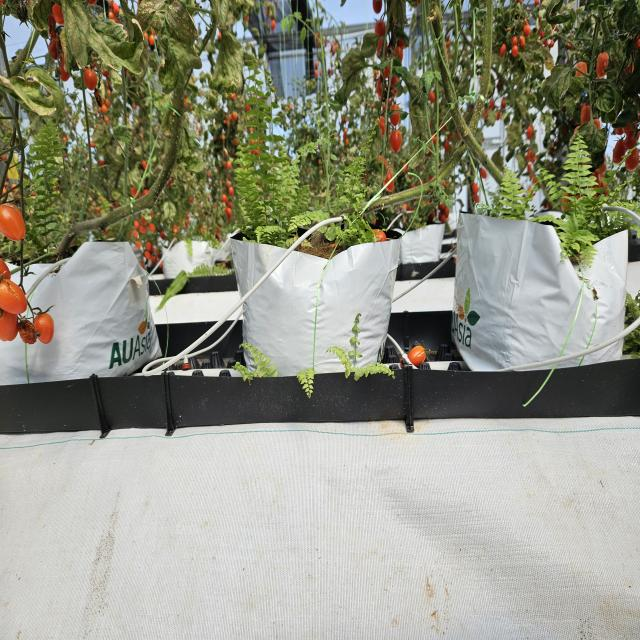Obstacle: (144, 218, 340, 383)
Soilbag: (458, 218, 626, 368), (230, 235, 398, 367), (2, 241, 155, 381)
Tomato: (2, 266, 52, 344), (1, 188, 34, 248)
plant: (221, 10, 393, 228), (4, 6, 146, 232), (462, 19, 618, 212)
